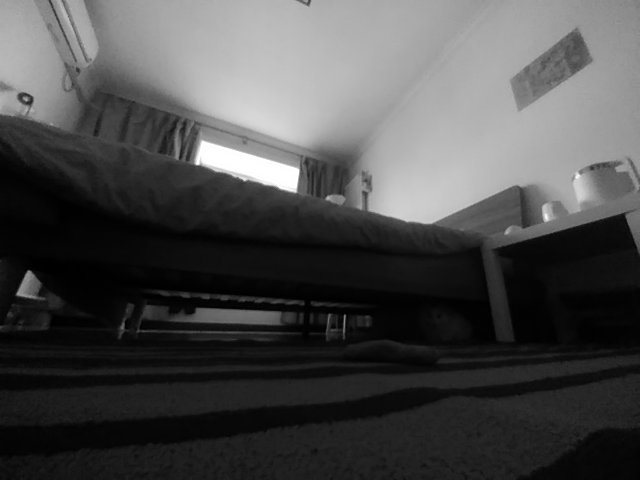pet feces: (341, 334, 438, 364)
